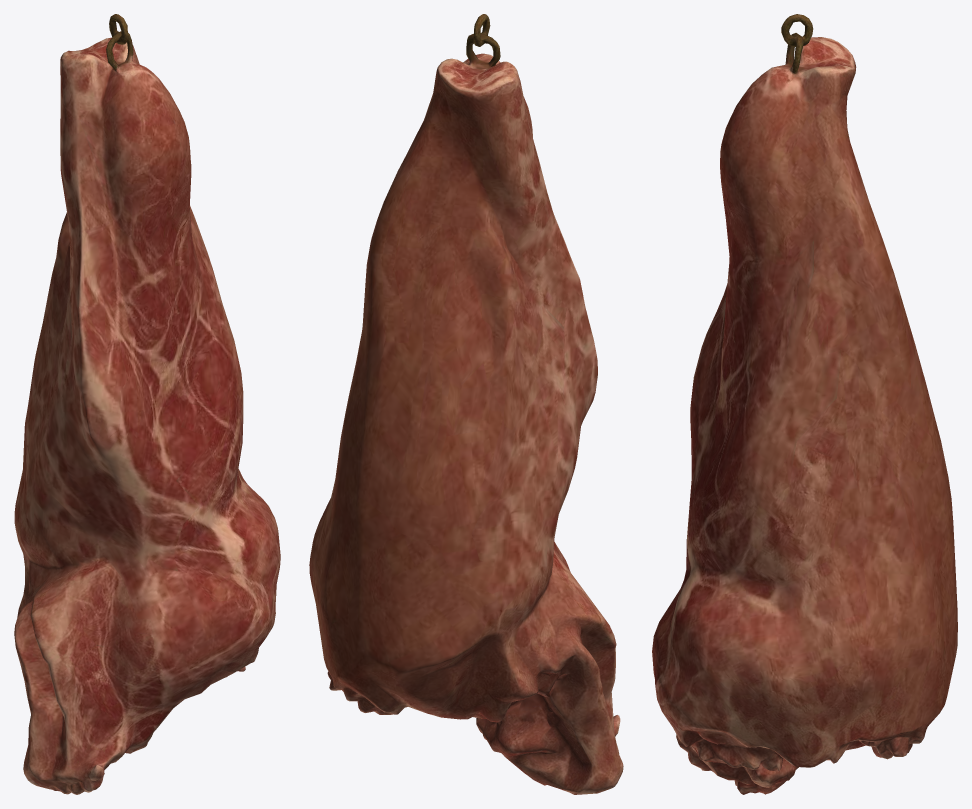
The model's file is carcass.glb.
3 renders of one model, left to right at view 1: azimuth 30°, elevation 25°; view 2: azimuth 150°, elevation 25°; view 3: azimuth 270°, elevation 25°, orthographic. The views are drawn at different scales.
Parts seen in each view (by area): view 1: Mesh_0; view 2: Mesh_0; view 3: Mesh_0.
Boxes of the visible parts, x1,y1,x2,y2 form: Mesh_0: (14,14,280,794); Mesh_0: (309,14,623,794); Mesh_0: (652,14,957,794).
Bounding box in the file's own units: 0.6866 × 1.9 × 0.6502.
1 material, 1 textured.
